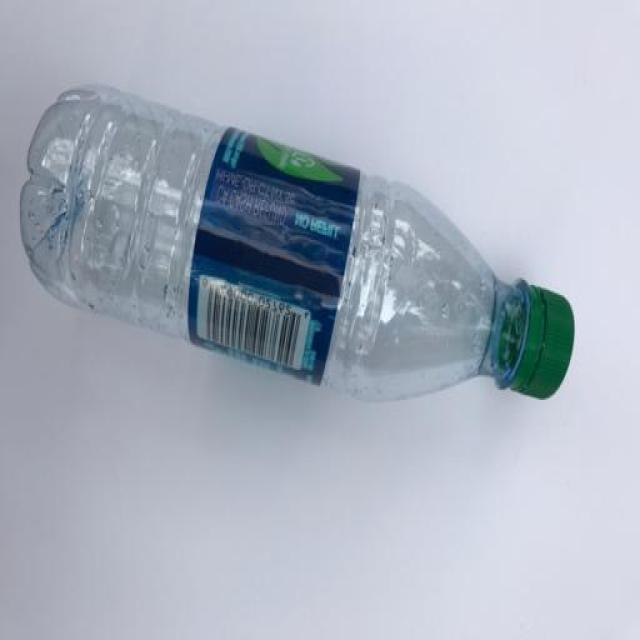plastic: (16, 81, 578, 406)
